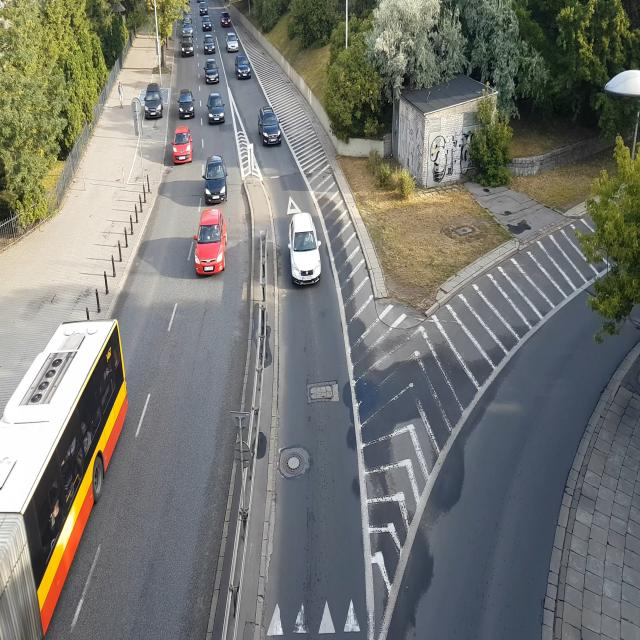bus: (0, 313, 134, 640)
car: (288, 212, 322, 287), (195, 207, 228, 276), (203, 156, 229, 205), (257, 110, 283, 149), (173, 127, 194, 166), (143, 85, 164, 120), (206, 92, 224, 122), (179, 90, 197, 118), (234, 55, 252, 81), (203, 58, 219, 83), (226, 36, 240, 54), (181, 40, 196, 56), (203, 40, 216, 54), (182, 24, 196, 36), (222, 13, 232, 27), (202, 19, 212, 30), (199, 4, 208, 15)
